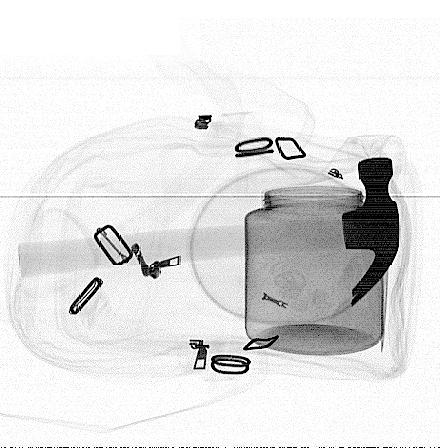Hammer: (19, 157, 399, 307)
